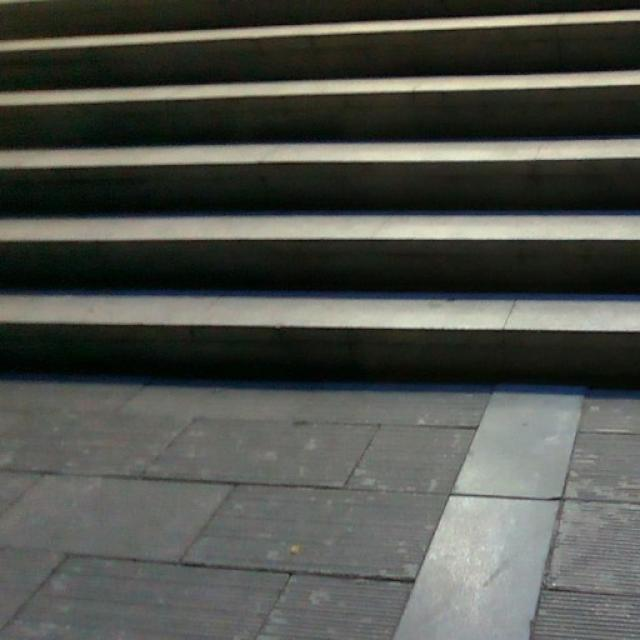Stairs: (0, 0, 639, 384)
